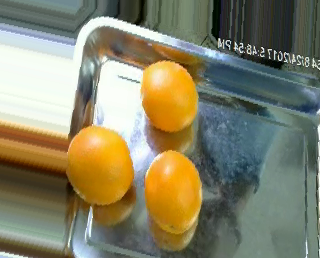Orange: (67, 125, 134, 205), (144, 149, 204, 233), (141, 59, 199, 133)
